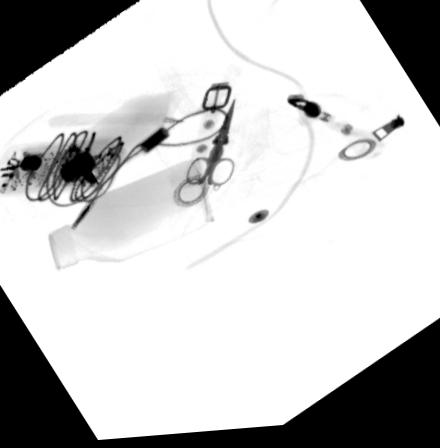Scissors: (185, 103, 236, 192)
